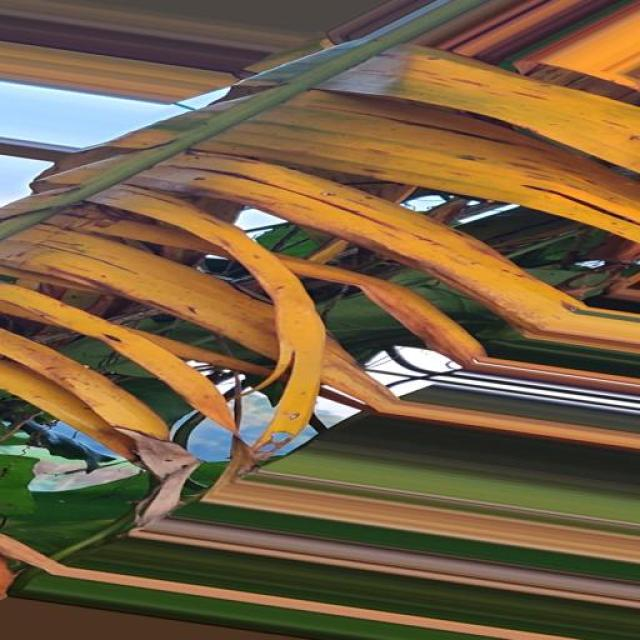Cordana: (0, 43, 640, 542)
